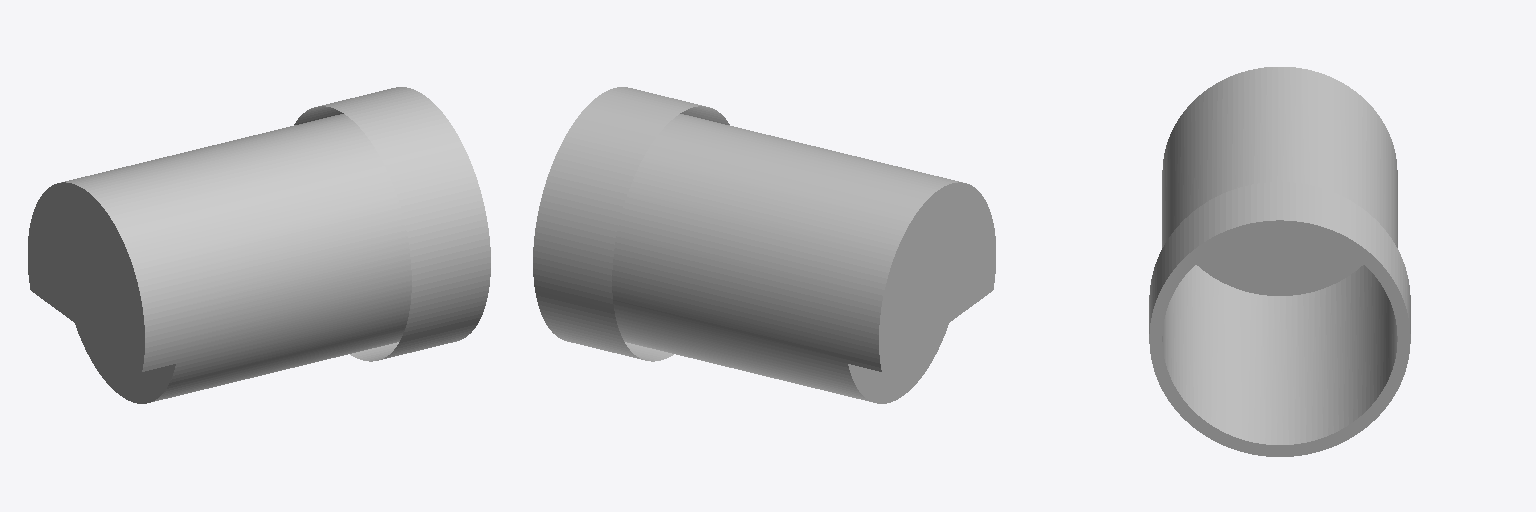
Rendered from heater_inlet_pipe.obj.
3 views of the same model, side by side, from view 1: azimuth 30°, elevation 25°; view 2: azimuth 150°, elevation 25°; view 3: azimuth 270°, elevation 25° (orthographic).
Parts seen in each view (by area): view 1: obj1; view 2: obj1; view 3: obj1.
Part boxes in pixels (bbox=[...]): obj1: bbox=[28, 87, 490, 403]; obj1: bbox=[533, 87, 995, 403]; obj1: bbox=[1149, 67, 1410, 456].
Bounding box in the file's own units: 3 × 2 × 2.